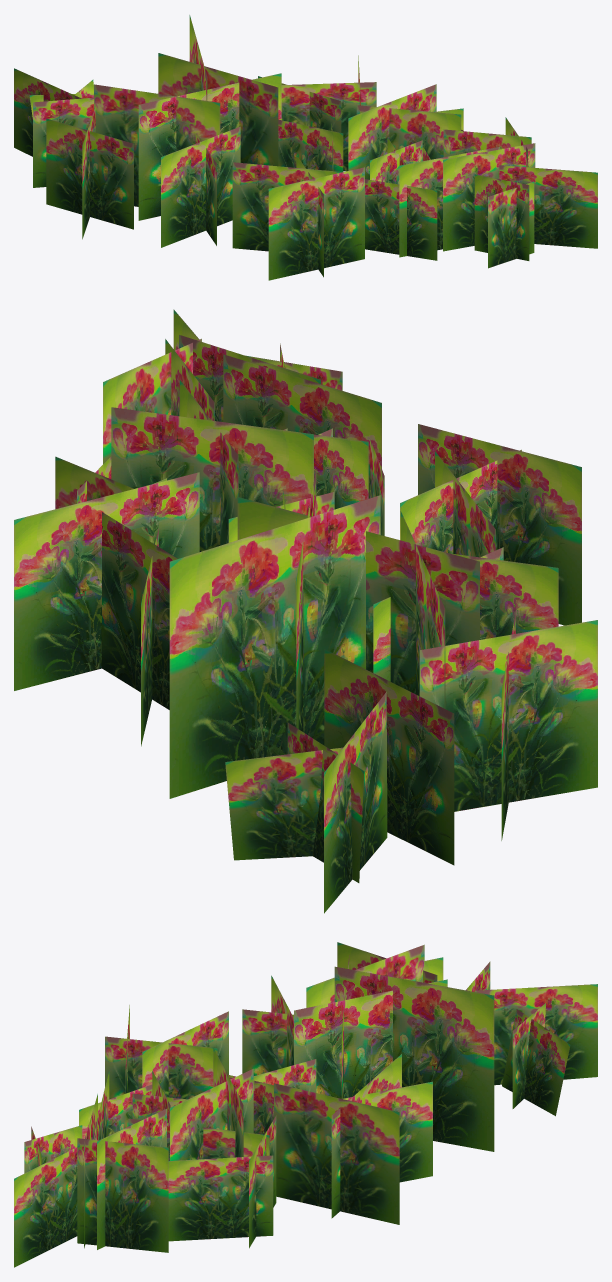
The model's file is wm_灌木野花12.fbx.
The picture shows the model from 3 angles, top to bottom: view 1: azimuth 30°, elevation 25°; view 2: azimuth 150°, elevation 25°; view 3: azimuth 270°, elevation 25°; orthographic projection. The views are drawn at different scales.
Visible parts, largest first — view 1: wm_灌木野花12; view 2: wm_灌木野花12; view 3: wm_灌木野花12.
Part boxes in pixels (x1,y1,x2,y2): wm_灌木野花12: [14, 15, 597, 280]; wm_灌木野花12: [14, 309, 597, 913]; wm_灌木野花12: [14, 942, 597, 1267].
Bounding box in the file's own units: 228 × 77.18 × 261.
